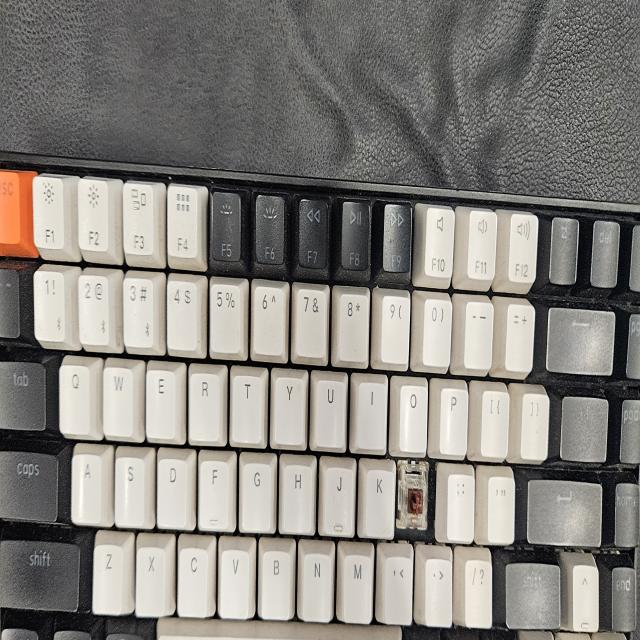C: (401, 459, 431, 540)
